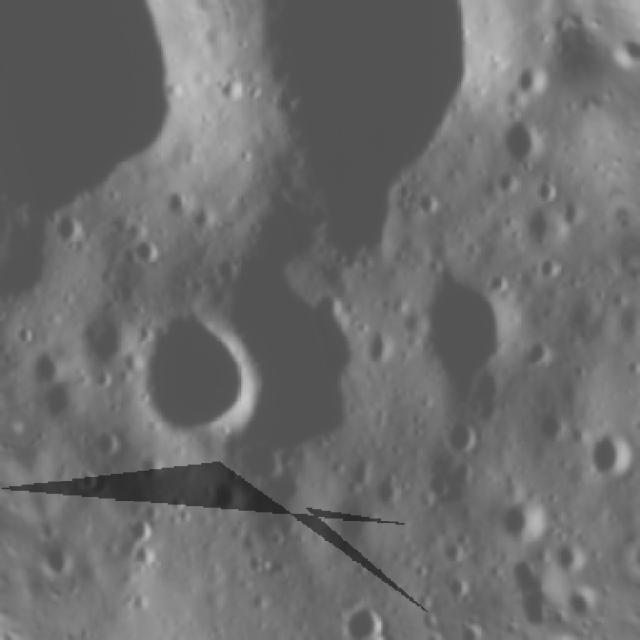crater: (107, 278, 273, 470), (397, 253, 538, 407), (492, 99, 566, 173), (488, 486, 557, 552), (331, 581, 400, 640), (433, 405, 496, 466), (580, 420, 640, 483), (193, 472, 250, 525), (206, 59, 256, 113), (510, 47, 558, 101), (50, 200, 96, 252), (124, 228, 173, 275), (85, 420, 128, 471), (8, 316, 44, 350)
